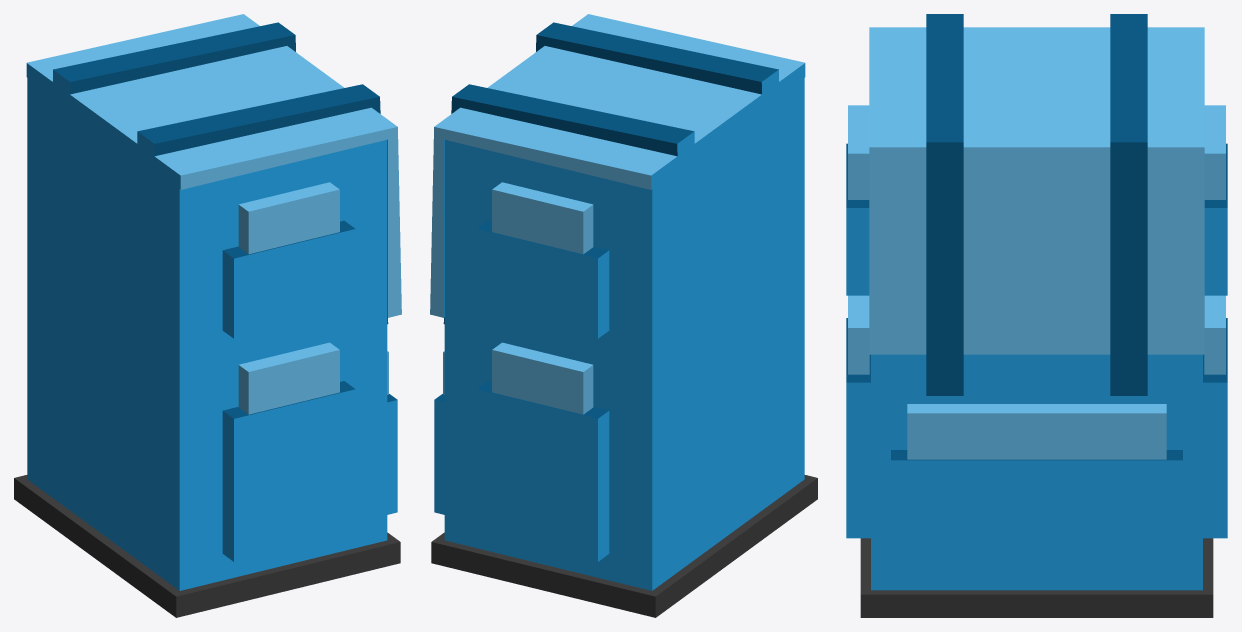
Rendered from Backpack.fbx.
3 renders of one model, left to right at view 1: azimuth 30°, elevation 25°; view 2: azimuth 150°, elevation 25°; view 3: azimuth 270°, elevation 25°, orthographic. The views are drawn at different scales.
Parts seen in each view (by area): view 1: Cube; view 2: Cube; view 3: Cube.
Part boxes in pixels (left/top/right/bottom): Cube: left=14, top=14, right=401, bottom=617; Cube: left=430, top=14, right=817, bottom=617; Cube: left=846, top=14, right=1227, bottom=617.
Size of the model in its own units: 184 by 326 by 230.
